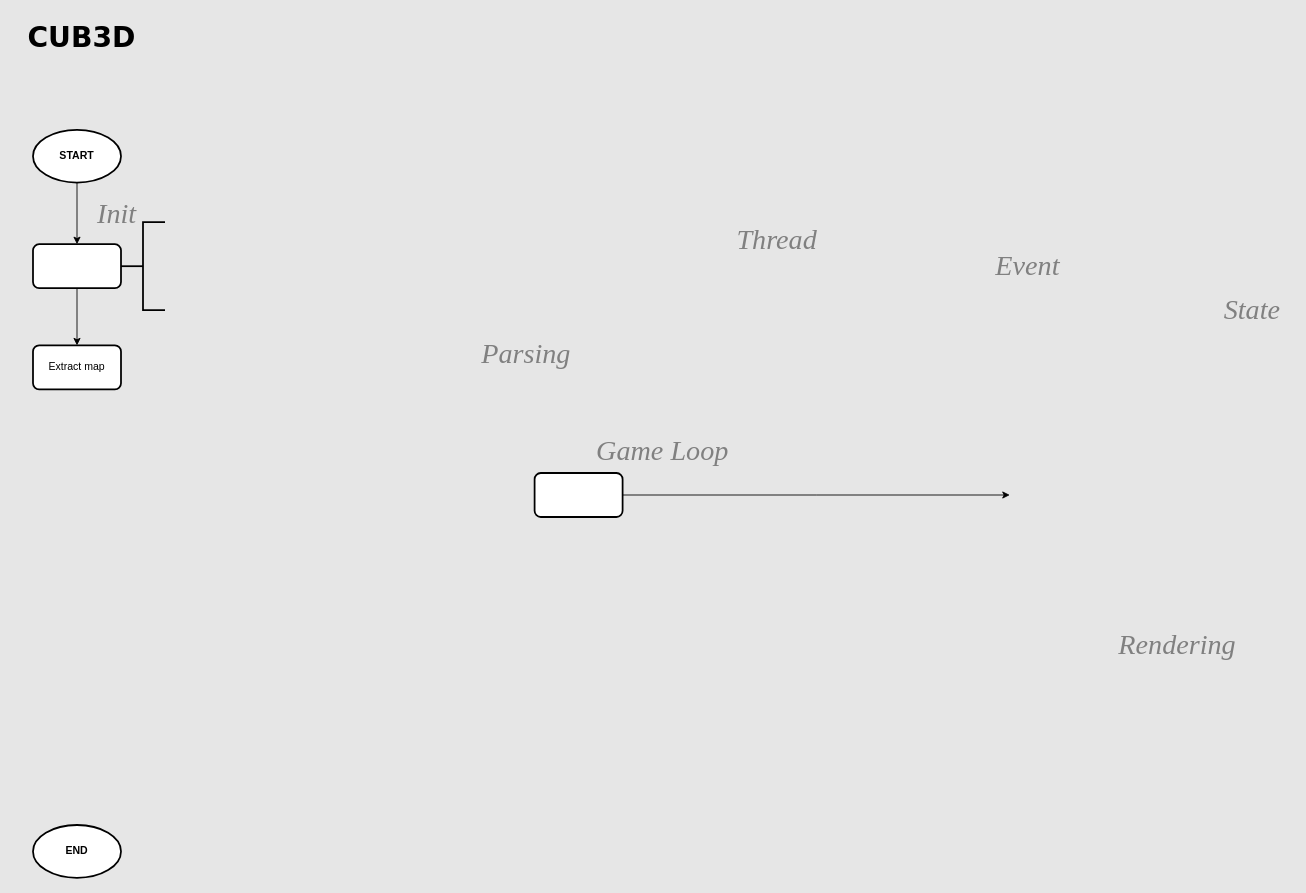
The diagram is 1306 pixels wide and 893 high, and some of its shapes have lost their labels. Each missing label, with the box of its shape:
Program init: (32, 243, 121, 289)
set struct attributes init mlx extract map: (120, 221, 165, 311)
